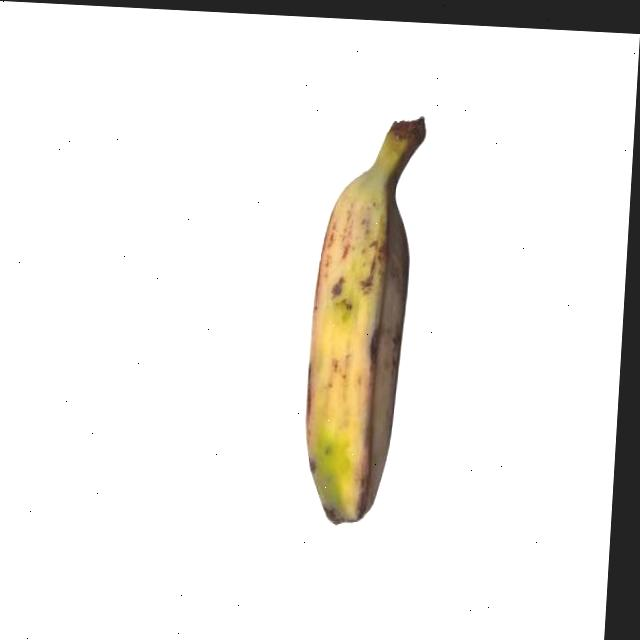banana: (293, 162, 422, 532)
